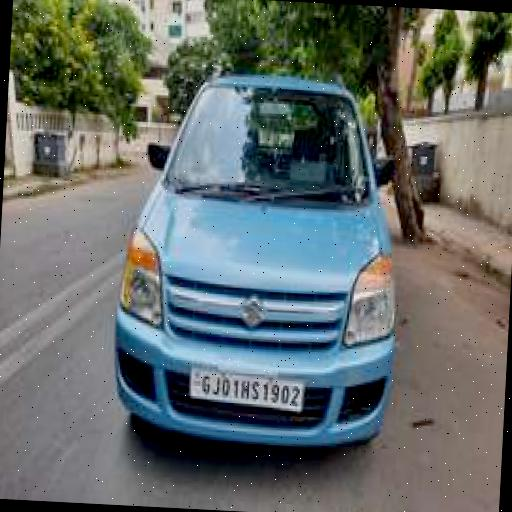license_plate`: (186, 366, 301, 409)
